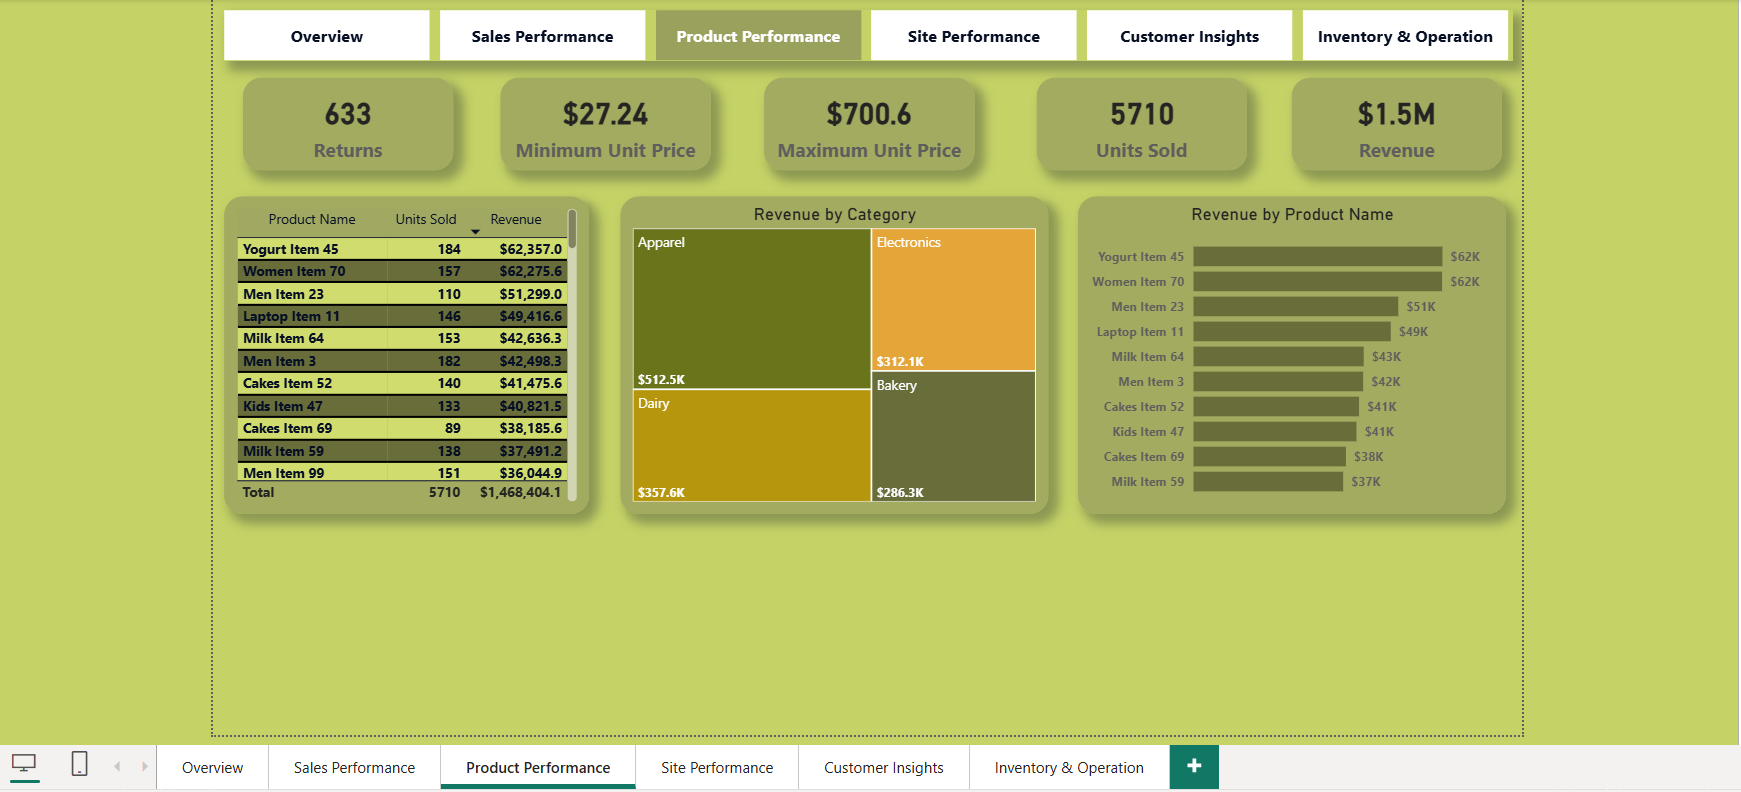

Layout of this report page (visuals, bound fields, positions):
{"tool":"powerbi","page":{"name":"Product Performance","canvas":[1280,720],"ordinal":2},"visuals":[{"type":"clusteredBarChart","fields":{"Category":["Product_Information.Product Name"],"Y":["All Measurs.Revenue"]},"box":[846.2,193.2,418.2,310.6],"z":0},{"type":"tableEx","fields":{"Values":["Product_Information.Product Name","All Measurs.Units Sold","All Measurs.Revenue"]},"box":[11,193.2,357.1,310.6],"z":1000},{"type":"pageNavigator","box":[11,11,1261.1,49.4],"z":2000},{"type":"card","fields":{"Values":["All Measurs.Revenue","select"]},"box":[1055.3,77,205.4,90.5],"z":3000},{"type":"card","fields":{"Values":["All Measurs.Units Sold"]},"box":[805.8,77,205.4,90.5],"z":4000},{"type":"card","fields":{"Values":["All Measurs.Maximum Unit Price"]},"box":[539.3,77,205.4,90.5],"z":5000},{"type":"card","fields":{"Values":["All Measurs.Minimum Unit Price"]},"box":[281.3,77,205.4,90.5],"z":6000},{"type":"treemap","fields":{"Group":["Product_Information.Category"],"Values":["All Measurs.Revenue"]},"box":[398.6,193.2,418.2,310.6],"z":7000},{"type":"card","fields":{"Values":["All Measurs.Returns"]},"box":[29.3,77,205.4,90.5],"z":8000}]}

Visuals, with their boxes on the page's 1280x720 design canvas (x1, y1, x2, y2). These are canvas units, not pixel positions in the 1741x792 screenshot, which may show the page scaled, cropped or inside an application window:
clusteredBarChart - Product_Information.Product Name x All Measurs.Revenue: bbox=(846, 193, 1264, 504)
tableEx - Product_Information.Product Name x All Measurs.Units Sold: bbox=(11, 193, 368, 504)
pageNavigator: bbox=(11, 11, 1272, 60)
card - All Measurs.Revenue x select: bbox=(1055, 77, 1261, 168)
card - All Measurs.Units Sold: bbox=(806, 77, 1011, 168)
card - All Measurs.Maximum Unit Price: bbox=(539, 77, 745, 168)
card - All Measurs.Minimum Unit Price: bbox=(281, 77, 487, 168)
treemap - Product_Information.Category x All Measurs.Revenue: bbox=(399, 193, 817, 504)
card - All Measurs.Returns: bbox=(29, 77, 235, 168)
